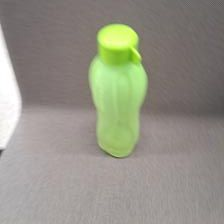bottle: (89, 23, 144, 156)
